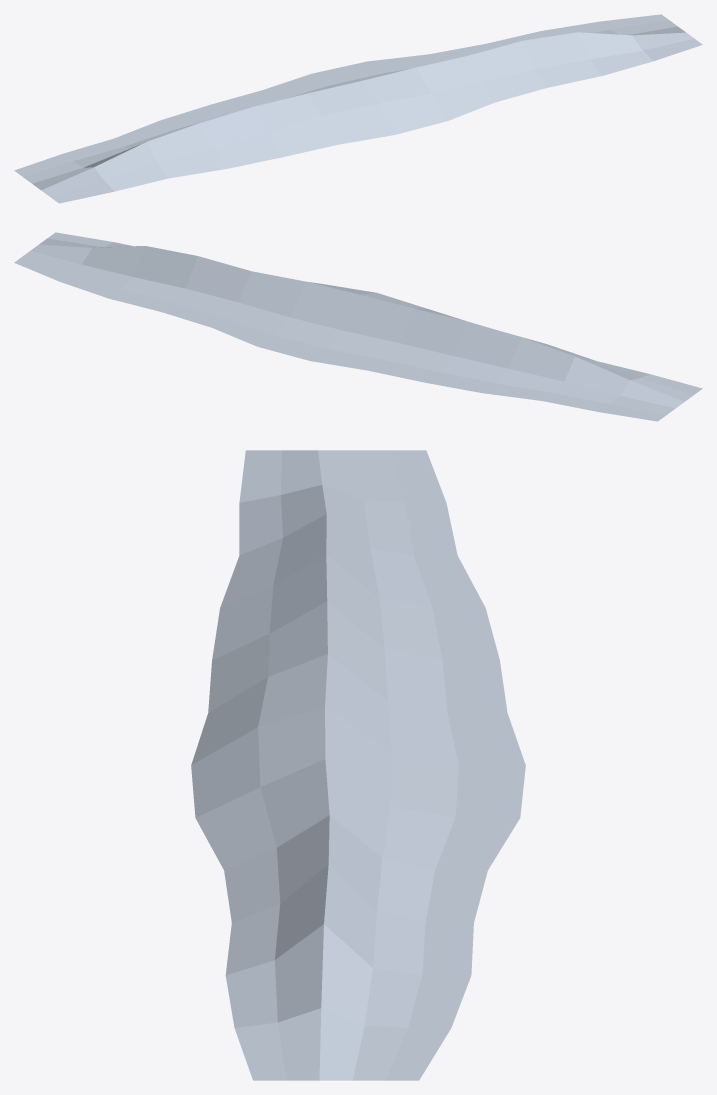
The model's file is rail_snow_drift_long.glb.
3 renders of one model, top to bottom at view 1: azimuth 30°, elevation 25°; view 2: azimuth 150°, elevation 25°; view 3: azimuth 270°, elevation 25°, orthographic. The views are drawn at different scales.
Parts seen in each view (by area): view 1: snow; view 2: snow; view 3: snow.
Boxes of the visible parts, box(x1,y1,x2,y2) form: snow: box(14, 14, 702, 203); snow: box(14, 232, 702, 421); snow: box(191, 450, 525, 1080).
Bounding box in the file's own units: 8 × 0.35 × 1.8.
